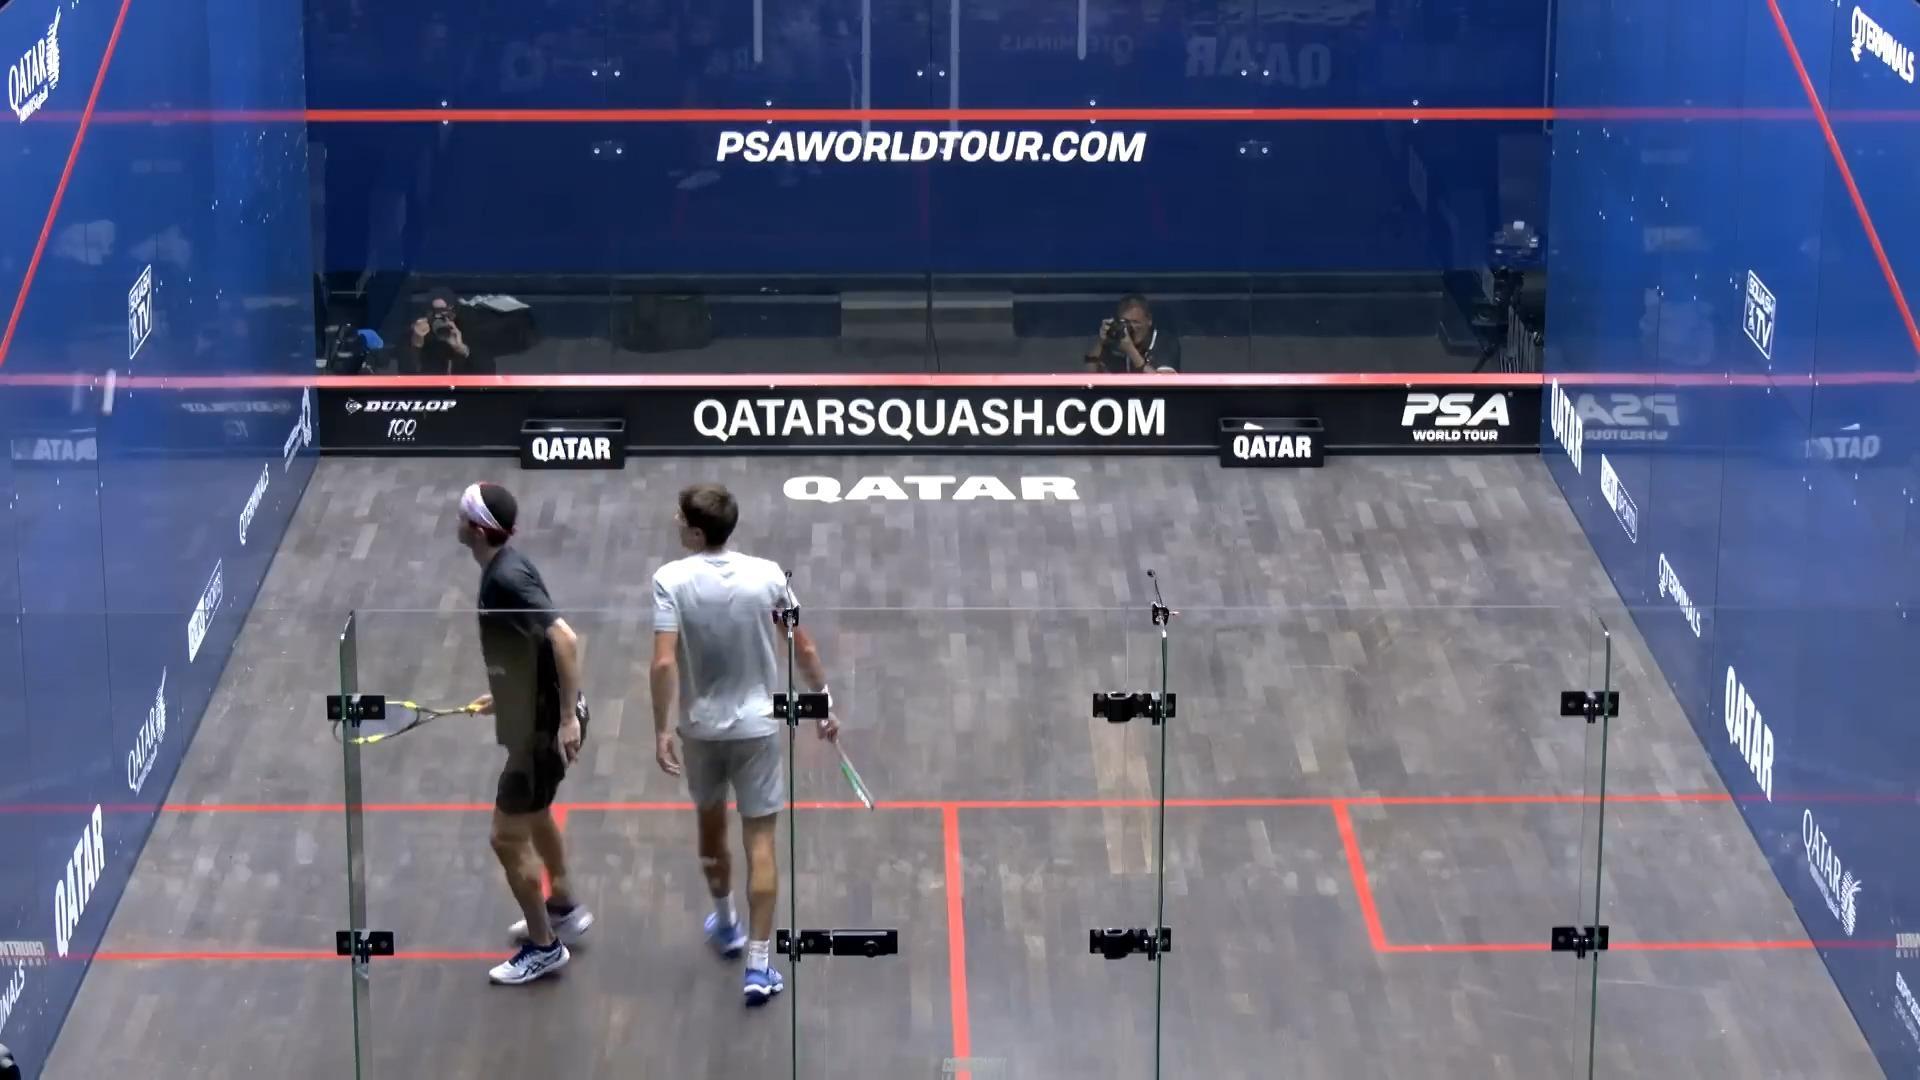Racket: (330, 691, 477, 752)
